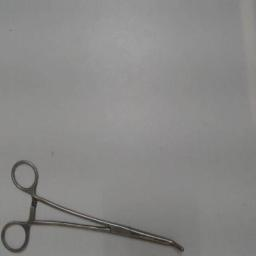Lahey Forceps: (1, 156, 187, 254)
